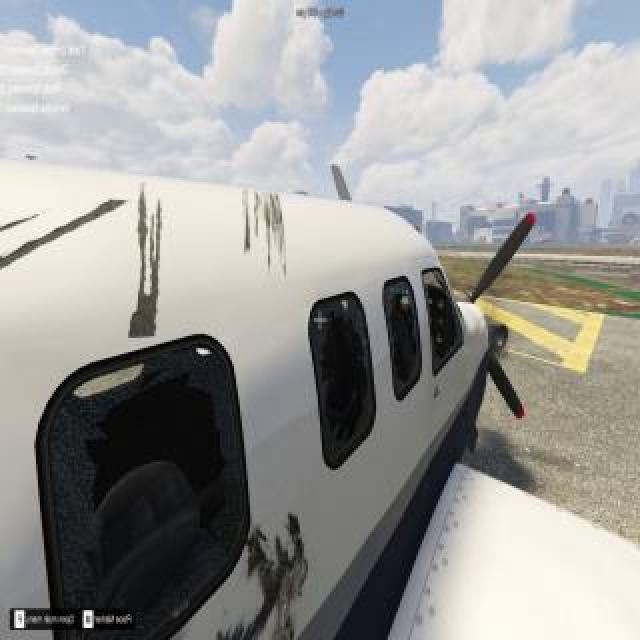dent: (5, 198, 124, 271), (240, 517, 308, 640), (127, 188, 160, 341), (265, 189, 285, 275), (245, 188, 252, 252)
